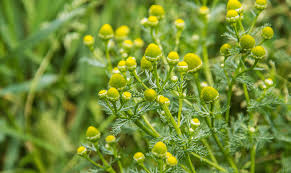pineple: (114, 43, 242, 143)
